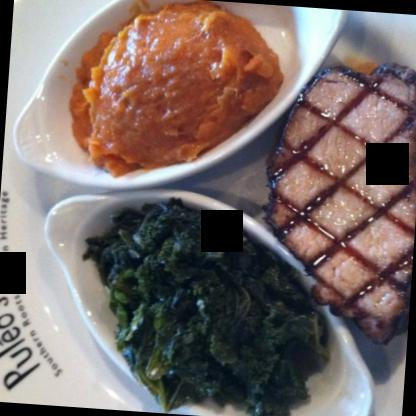beef: (259, 54, 415, 338)
